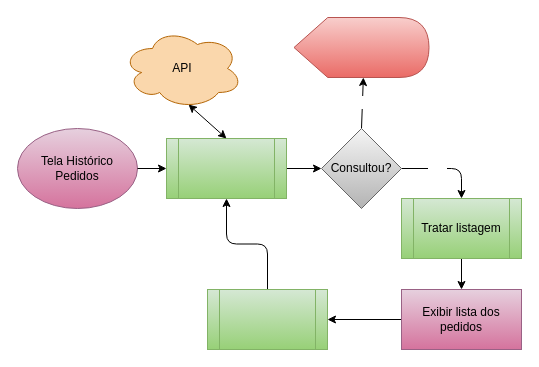
The diagram is 539 pixels wide and 367 high, and some of its shapes have lost their labels. The shapes that lost their labels are listed below. From the top down, each one's centre as x and y in pixels, then its label:
the point at 361,47: Mensagem erro ao consultar
the point at 226,168: Consultar pedidos concluídos
the point at 267,319: Alterou paginação
